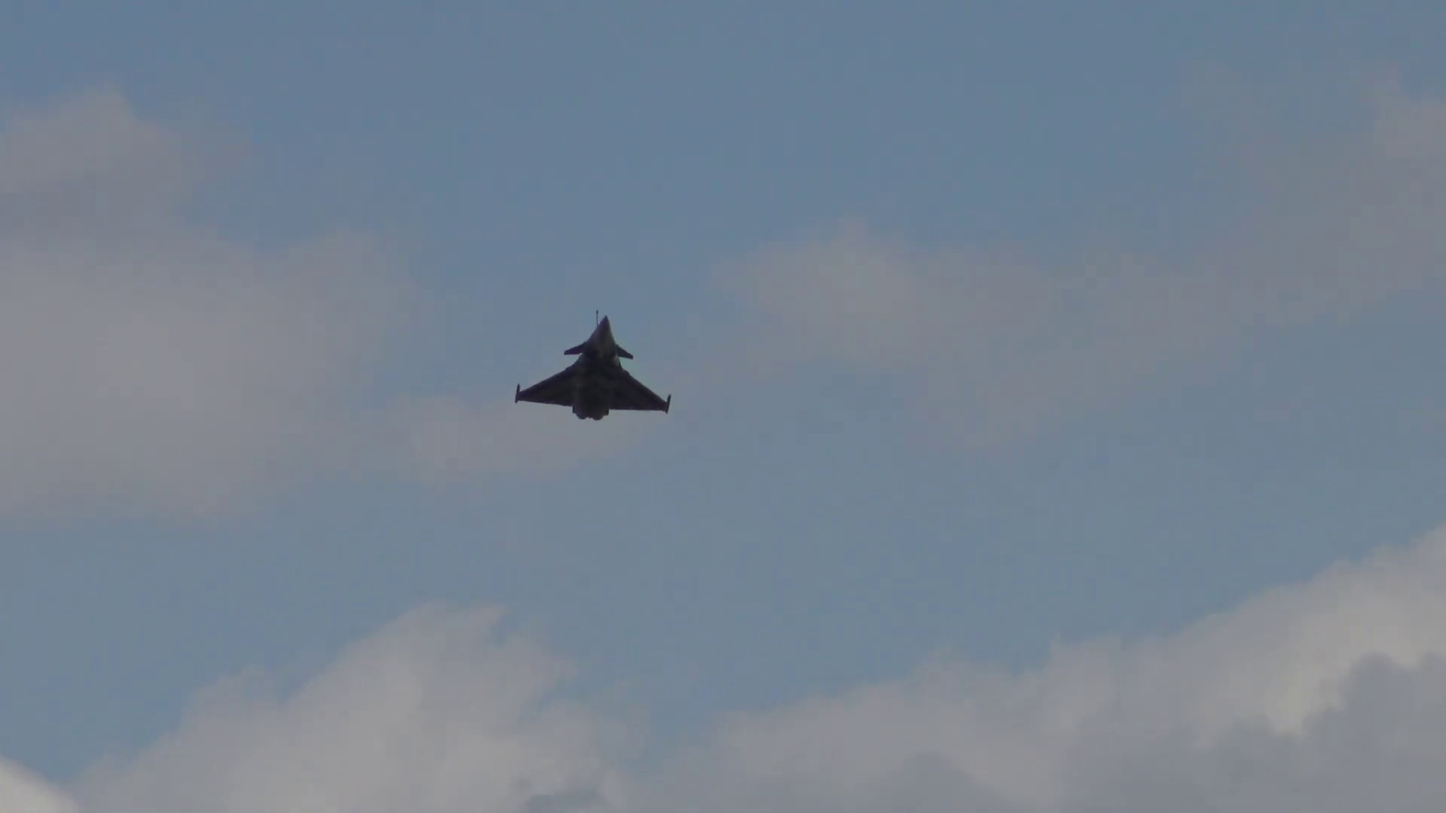Rafale: (514, 308, 676, 424)
